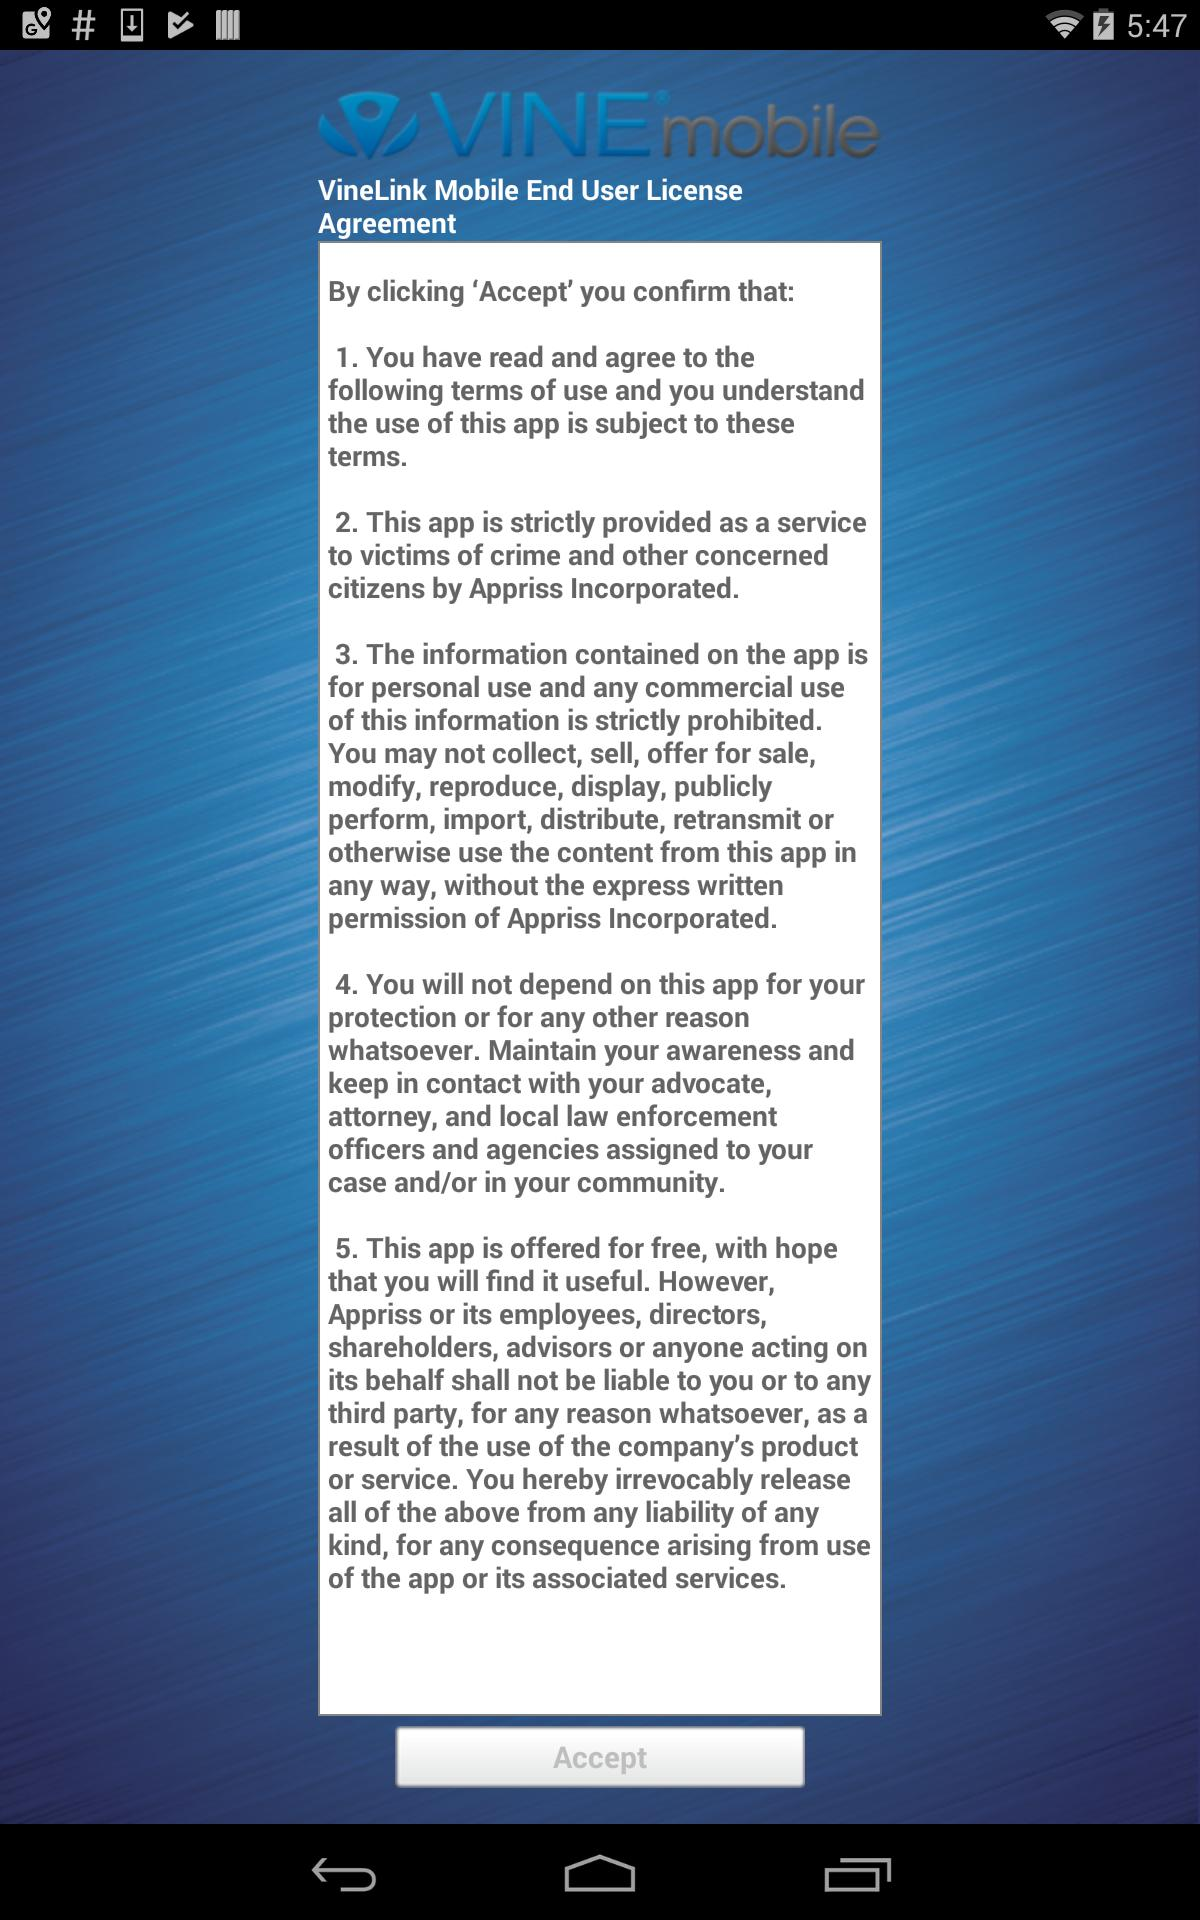android.widget.FrameLayout: (0, 0, 1200, 1825), (0, 50, 1200, 1825)
android.widget.ImageView: (0, 50, 1200, 1825), (318, 90, 882, 160)
android.widget.LinearLayout: (0, 0, 1200, 1825)
android.widget.RelativeLayout: (0, 50, 1200, 1825), (0, 80, 1200, 1715)
android.widget.ScrollView: (318, 241, 882, 1715)
android.widget.TextView: (318, 261, 882, 1673), (318, 170, 882, 241), (395, 1726, 805, 1789)
